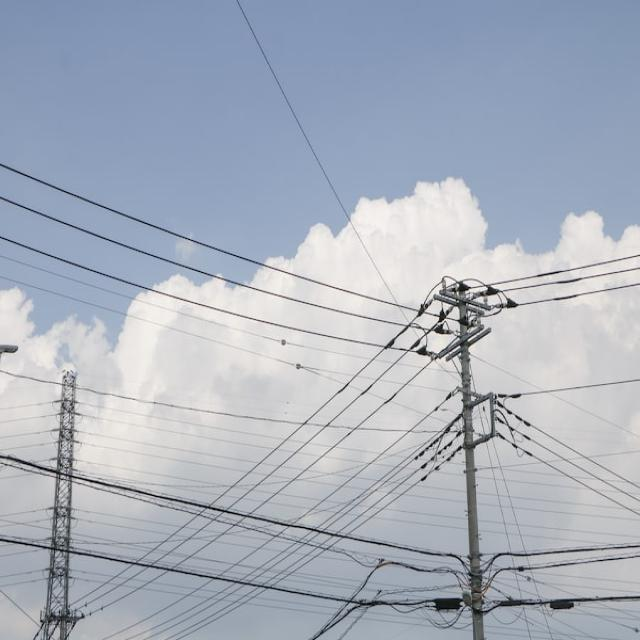transmission tower: (382, 233, 549, 640), (12, 337, 113, 623)
